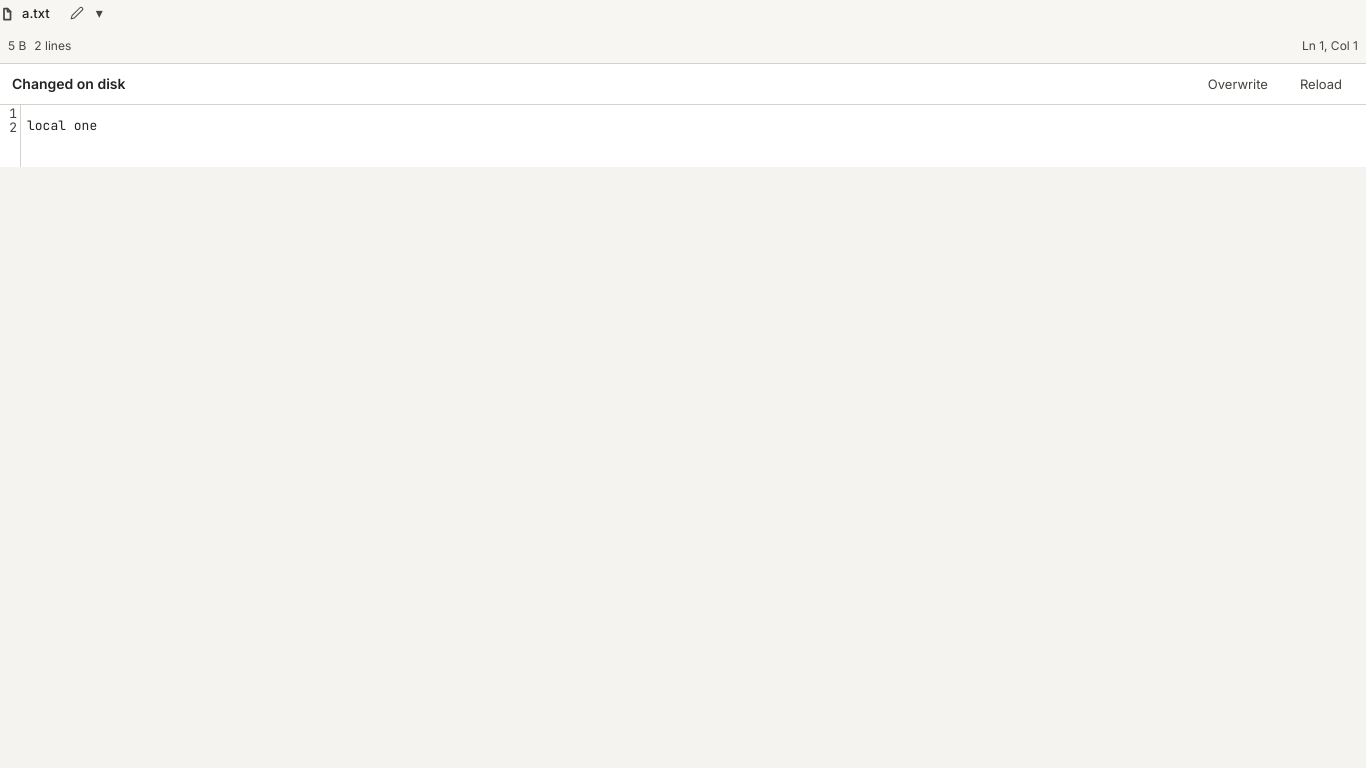
Test: WorkspaceFileTab editing › reloads the disk contents from the banner and goes clean
Expected: the message "Changed on disk Overwrite Reload" is shown, [0, 64, 1365, 105]
// Local edits exist, so the banner asks through the confirm dialog.
Click the button "Reload".
click(1321, 84)  # box [1288, 70, 1354, 98]
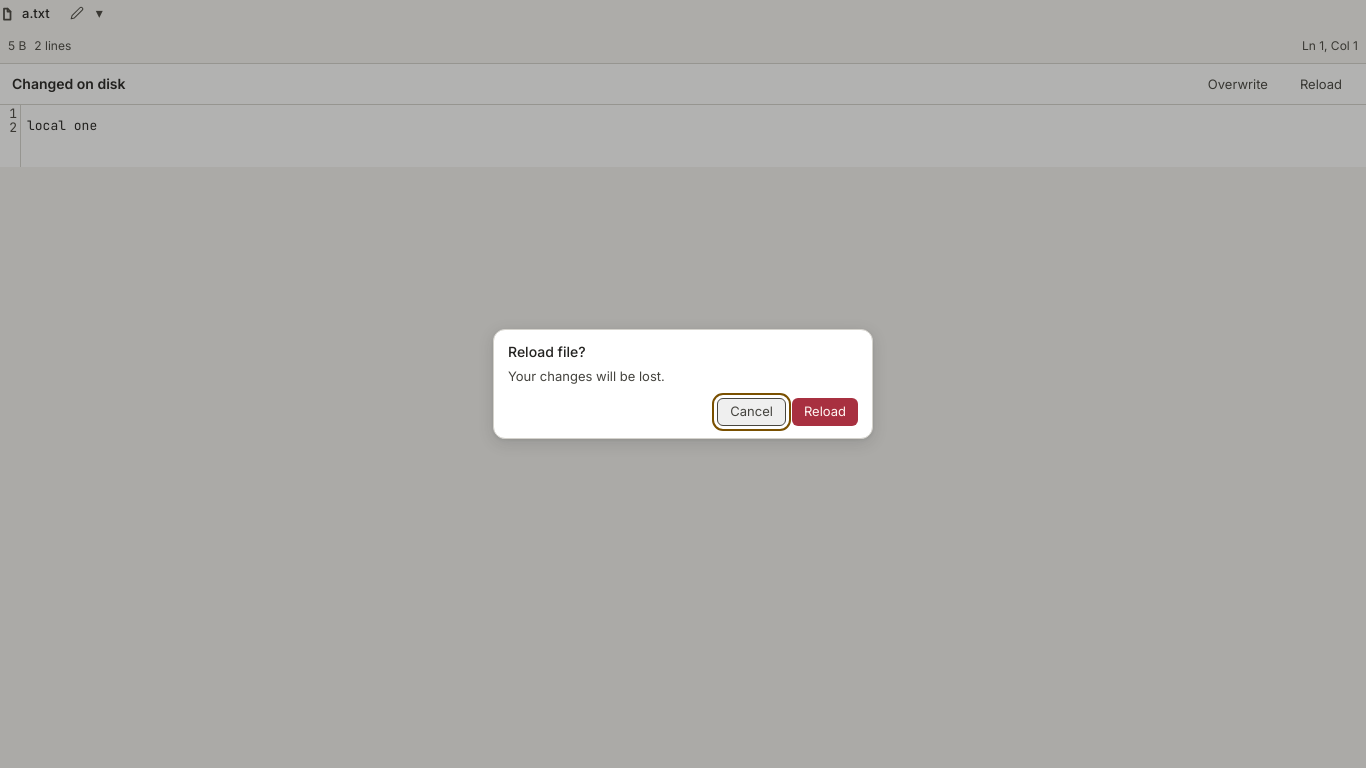
Click the button "Reload".
click(825, 412)  # box [792, 398, 858, 426]
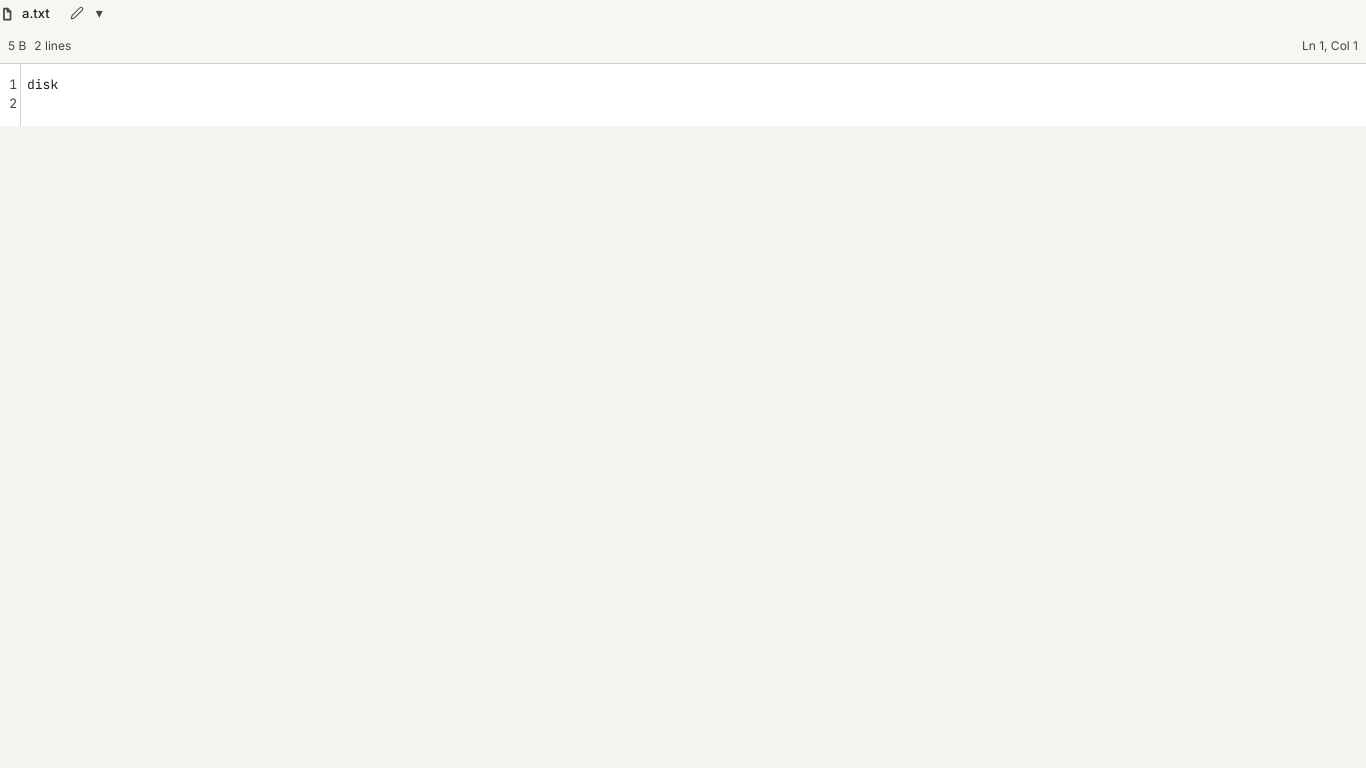
Result: the message with test id "file-conflict-alert" is gone
